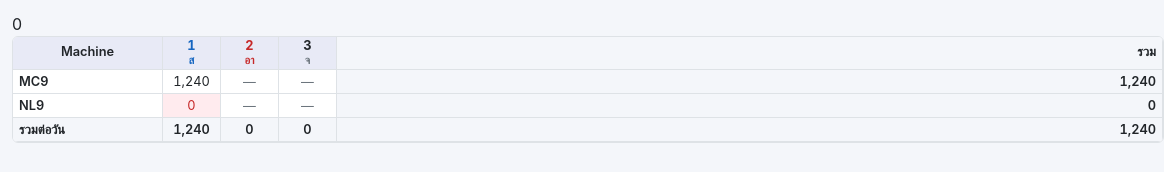
Test: Esc ล้างการเลือก
Click the column heading titled "2026-08-01 (คลิกเพื่อเลือกทั้งวัน)" at (192, 53), box [163, 37, 221, 70]
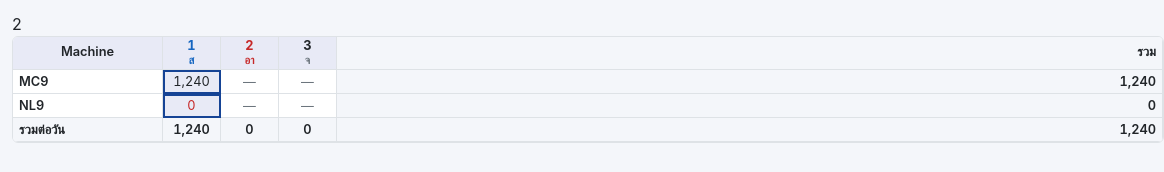
Check: the text with test id "count" reads "2", box [12, 14, 22, 34]
Press Escape
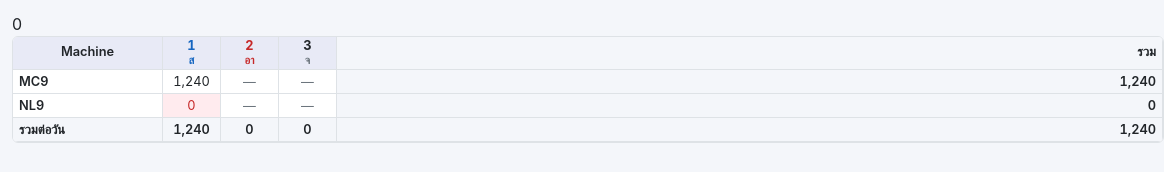
Check: the text with test id "count" reads "0", box [12, 14, 22, 34]
